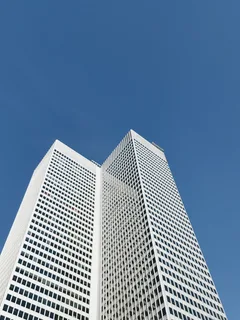high_rise_building: (24, 124, 197, 320)
